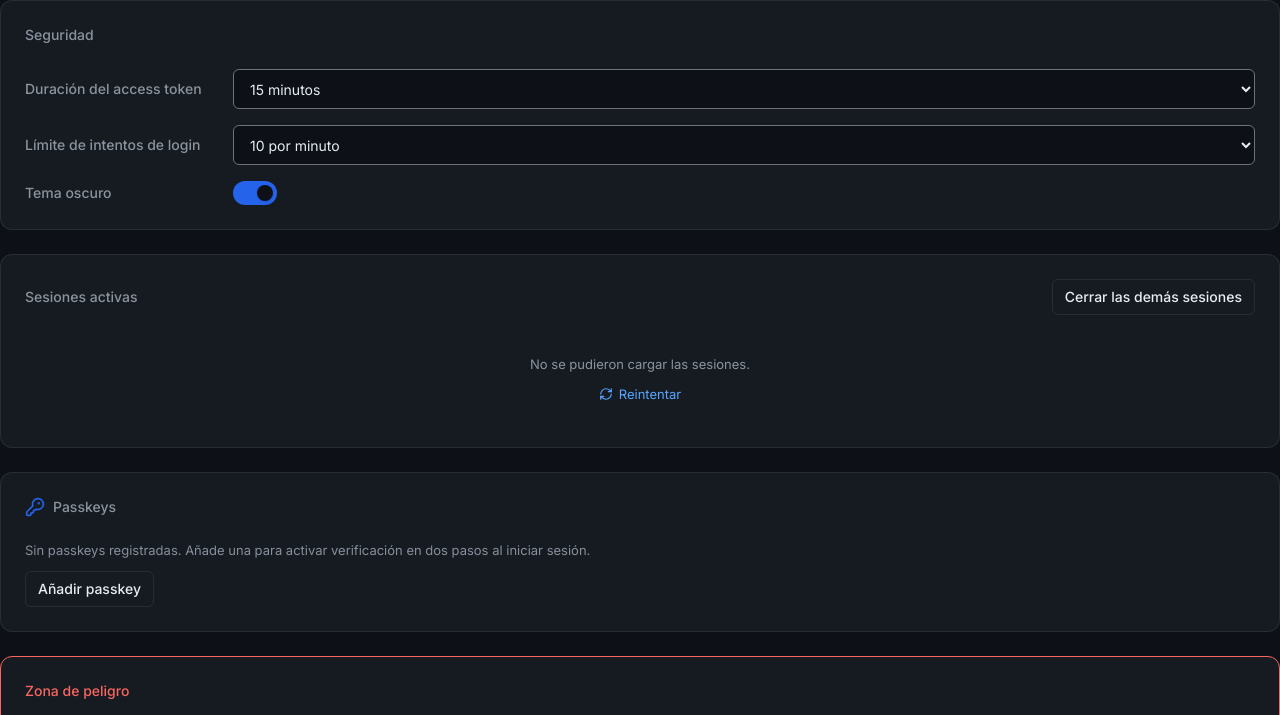
it: SecuritySection › si fallan las sesiones se dice, no se pinta «sin sesiones»
The image size is (1280, 715).
expect the text "No se pudieron cargar las sesiones." is shown: met, box [530,355,750,373]
Click the button "Reintentar": (640, 394) [591,381,689,407]
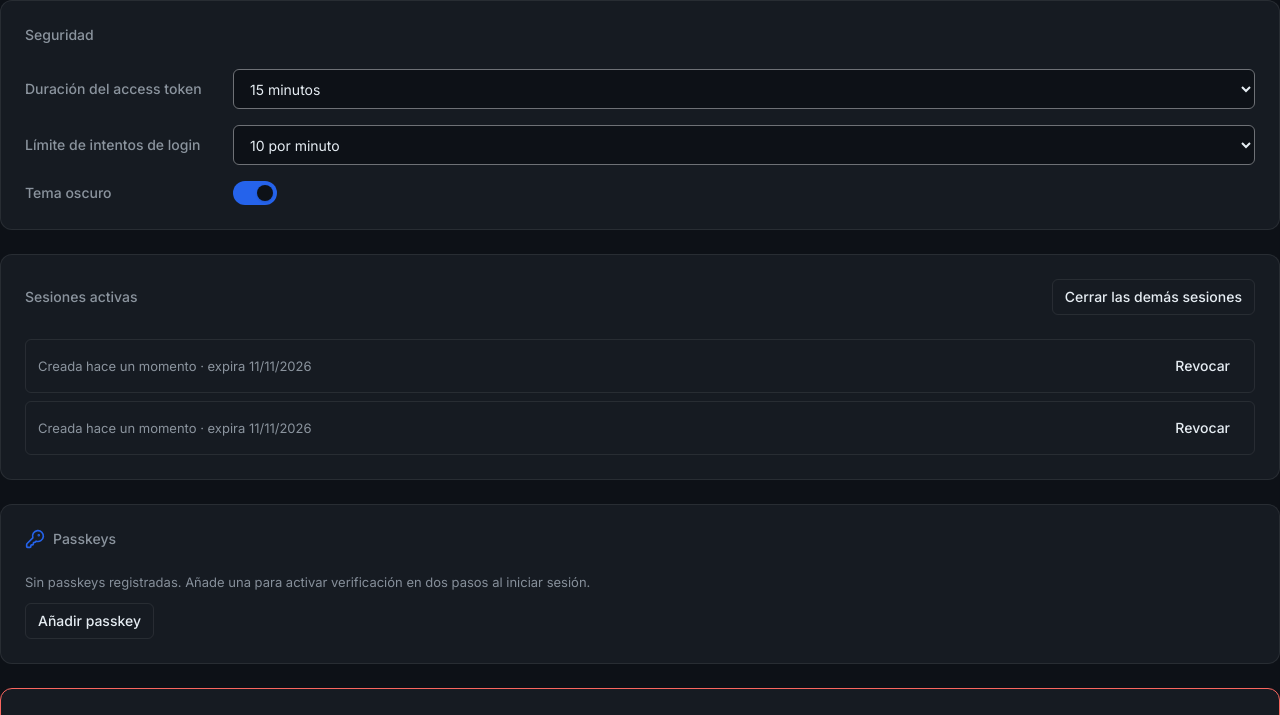
expect the number of buttons named "Revocar la sesión" is 2: met, box [1163,348,1242,384]; [1163,410,1242,446]
